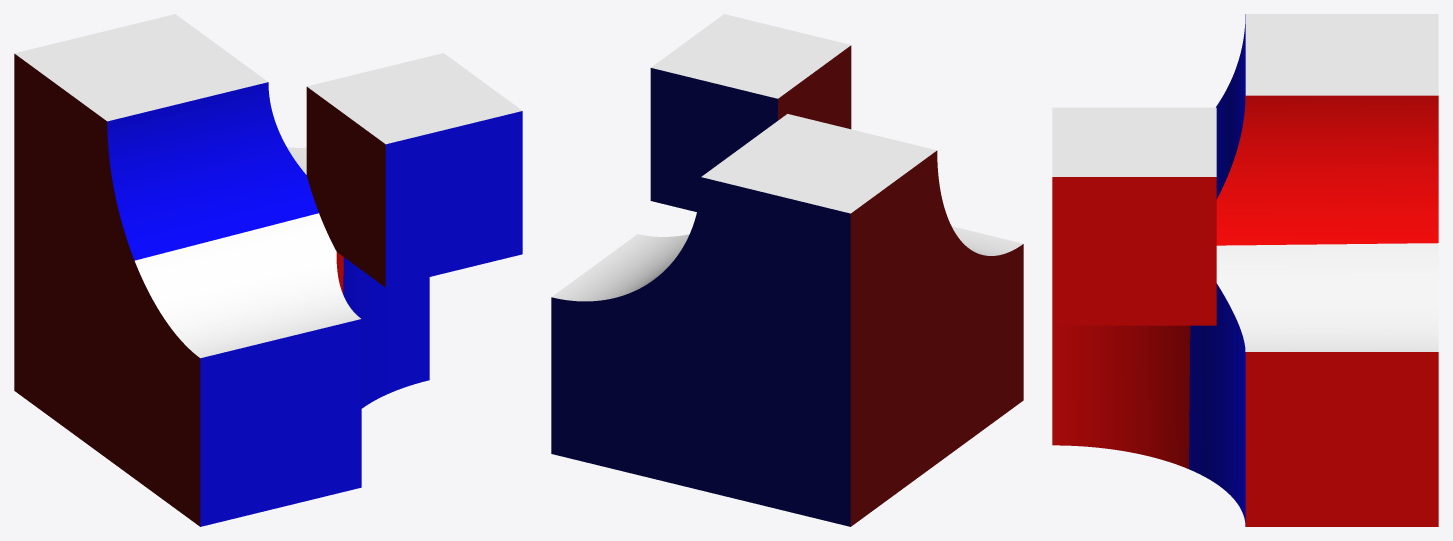
File: labeled_CAD.glb
3 views of the same model, side by side, from view 1: azimuth 30°, elevation 25°; view 2: azimuth 150°, elevation 25°; view 3: azimuth 270°, elevation 25° (orthographic). The views are drawn at different scales.
Size of the model in its own units: 10 by 10 by 10.
Materials: 1 (1 with a texture image).
